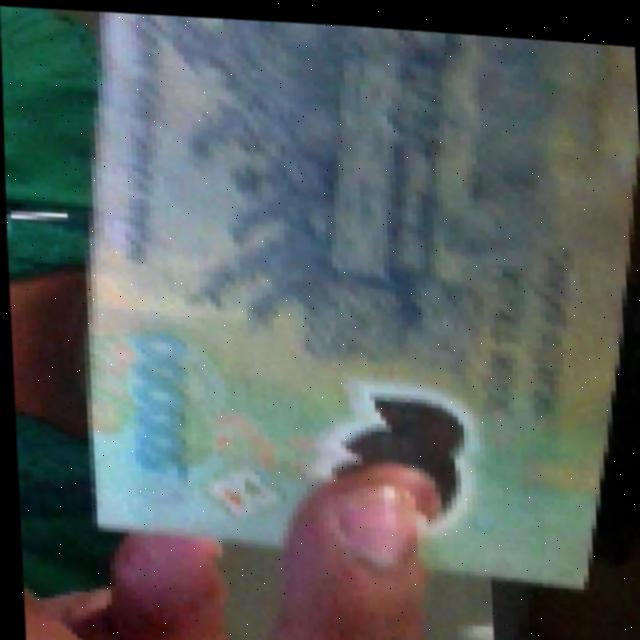500 000 VND: (61, 4, 640, 596)
